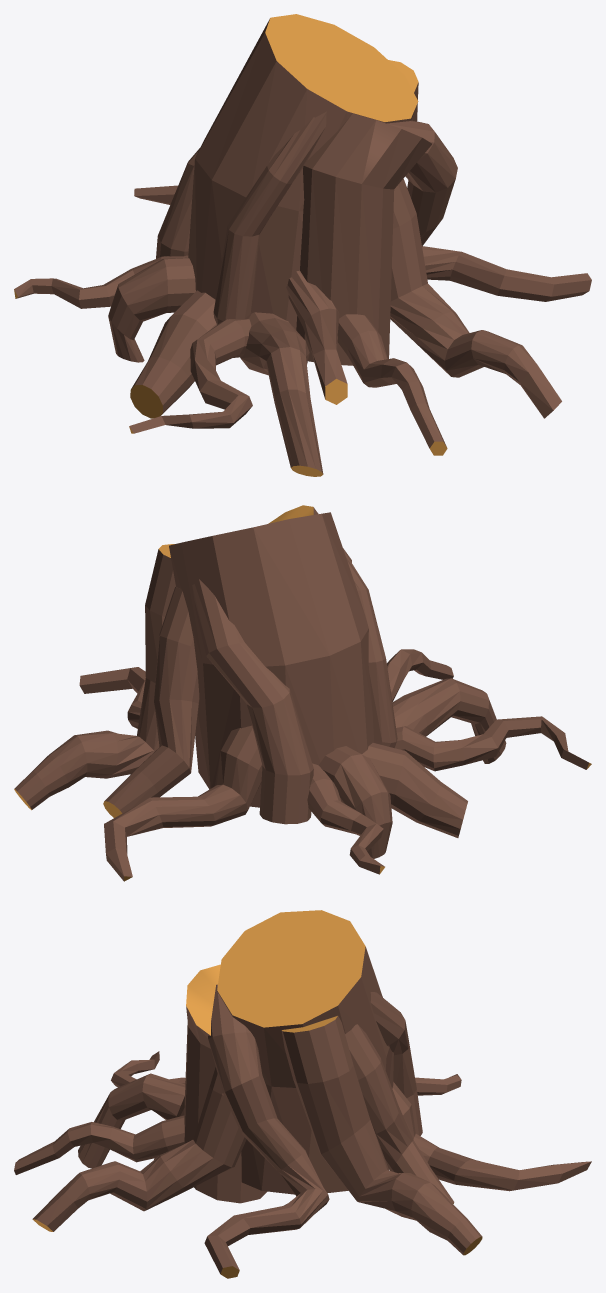
Rendered from TREE ROOT PUZZLE.fbx.
The picture shows the model from 3 angles, top to bottom: view 1: azimuth 30°, elevation 25°; view 2: azimuth 150°, elevation 25°; view 3: azimuth 270°, elevation 25°; orthographic projection. The views are drawn at different scales.
Parts seen in each view (by area): view 1: TREE ROOT PUZZLE; view 2: TREE ROOT PUZZLE; view 3: TREE ROOT PUZZLE.
Boxes of the visible parts, bbox=[...] form: TREE ROOT PUZZLE: bbox=[14, 14, 591, 476]; TREE ROOT PUZZLE: bbox=[14, 505, 591, 881]; TREE ROOT PUZZLE: bbox=[14, 910, 591, 1278].
Bounding box in the file's own units: 73.71 × 46.7 × 83.51.
